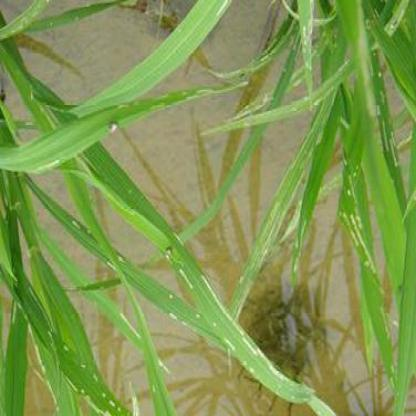rice-bug: (108, 119, 118, 136), (164, 246, 174, 260)
